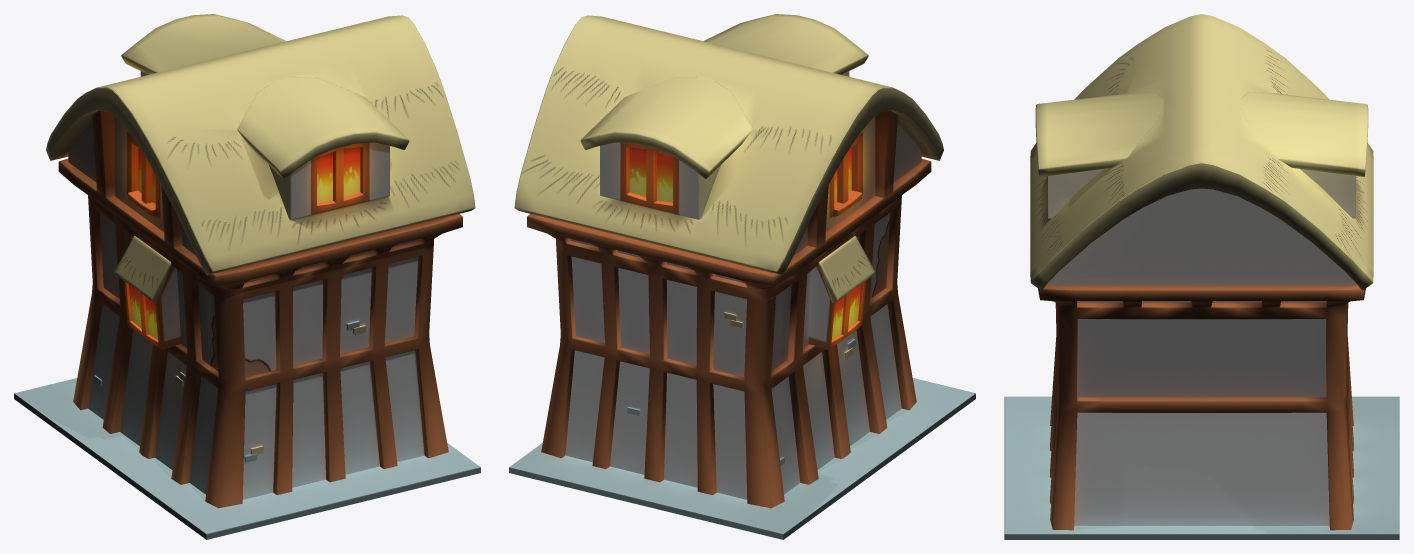
Rendered from House01.fbx.
3 views of the same model, side by side, from view 1: azimuth 30°, elevation 25°; view 2: azimuth 150°, elevation 25°; view 3: azimuth 270°, elevation 25° (orthographic). The views are drawn at different scales.
Parts seen in each view (by area): view 1: Cube; view 2: Cube; view 3: Cube.
Boxes of the visible parts, left/top/right/bottom form: Cube: left=14, top=14, right=480, bottom=539; Cube: left=509, top=14, right=975, bottom=539; Cube: left=1004, top=14, right=1399, bottom=539.
Size of the model in its own units: 10889 by 13219 by 12155.
1 material, 1 textured.
